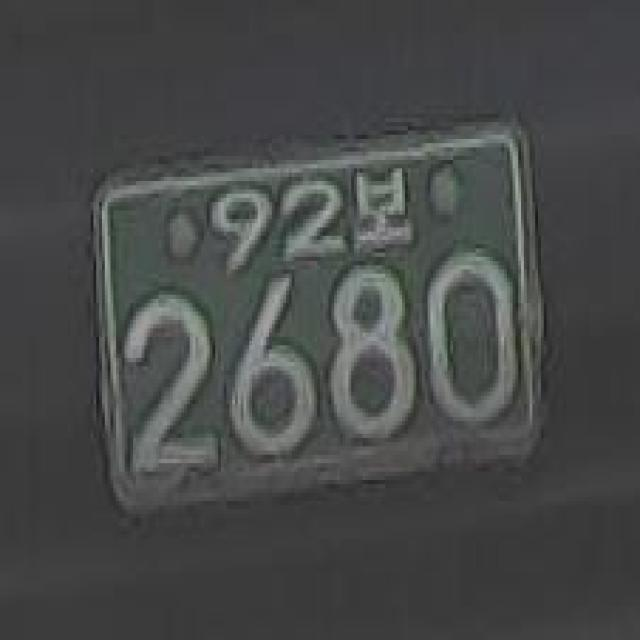illegal_plate: (80, 125, 552, 530)
